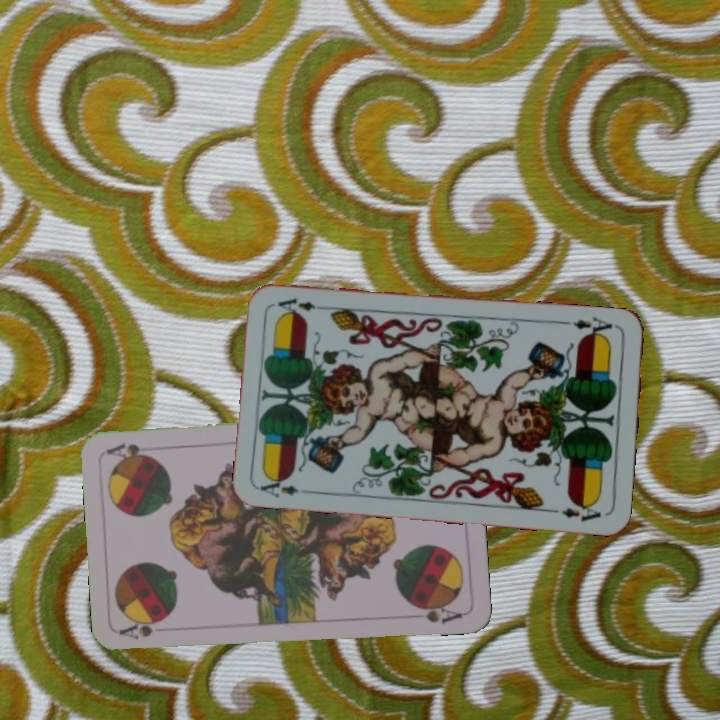EA: (256, 472, 315, 501), (569, 313, 620, 341)
SA: (116, 617, 165, 642)
